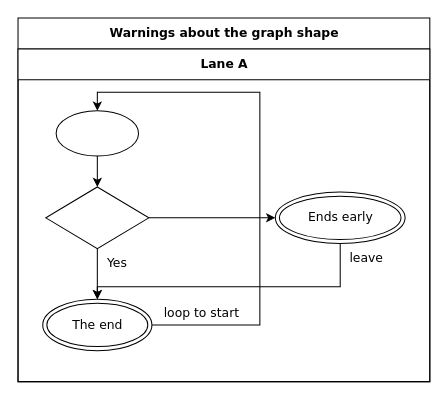
This 448x400 diagram has some shape labels left out. The shapes that lost their labels are listed below. From the top down, each one's centre as x and y in pixels, then its label:
pixel 97 133: Enter
pixel 97 217: Fork?
